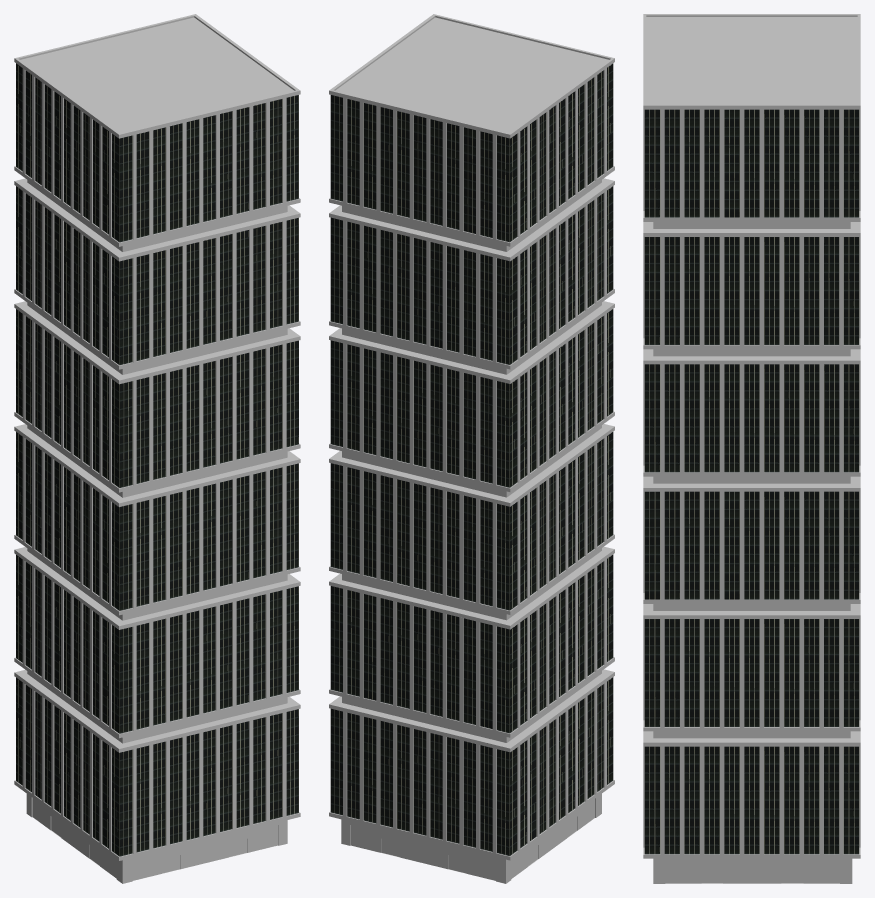
The picture shows the model from 3 angles, left to right: view 1: azimuth 30°, elevation 25°; view 2: azimuth 150°, elevation 25°; view 3: azimuth 270°, elevation 25°; orthographic projection. The views are drawn at different scales.
Visible parts, largest first — view 1: EC-017; view 2: EC-017; view 3: EC-017.
Boxes of the visible parts, bbox=[...] form: EC-017: bbox=[14, 14, 300, 883]; EC-017: bbox=[329, 14, 614, 883]; EC-017: bbox=[643, 14, 860, 883].
Size of what is drawn, in the model's own units: 32.7 by 130 by 32.7.
